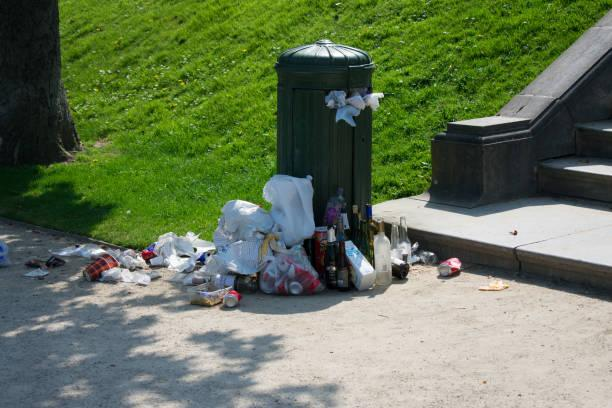trash: (178, 174, 466, 316), (79, 244, 160, 292), (140, 223, 204, 272), (322, 85, 386, 122), (51, 240, 137, 263), (24, 248, 66, 281), (0, 236, 16, 276)
trash_can_overflow: (187, 18, 446, 294)
